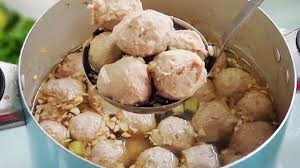bakso: (50, 6, 265, 156)
